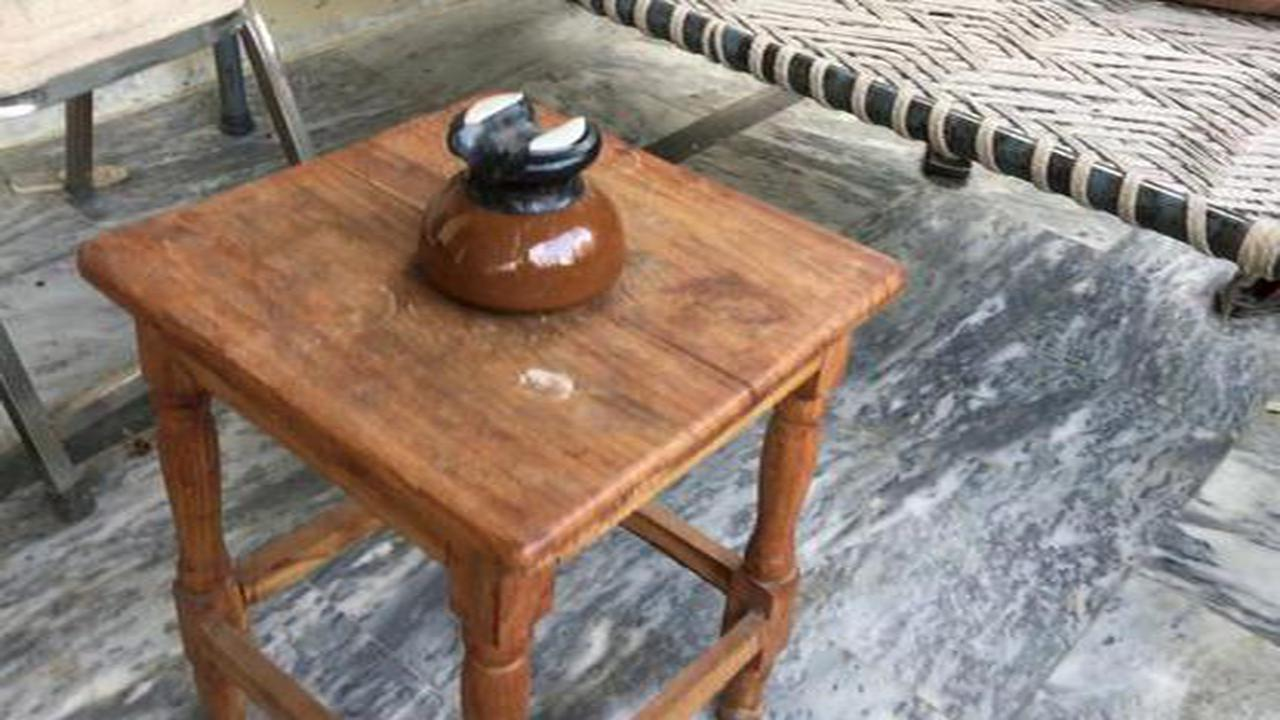insulator_pin: (394, 78, 650, 333)
